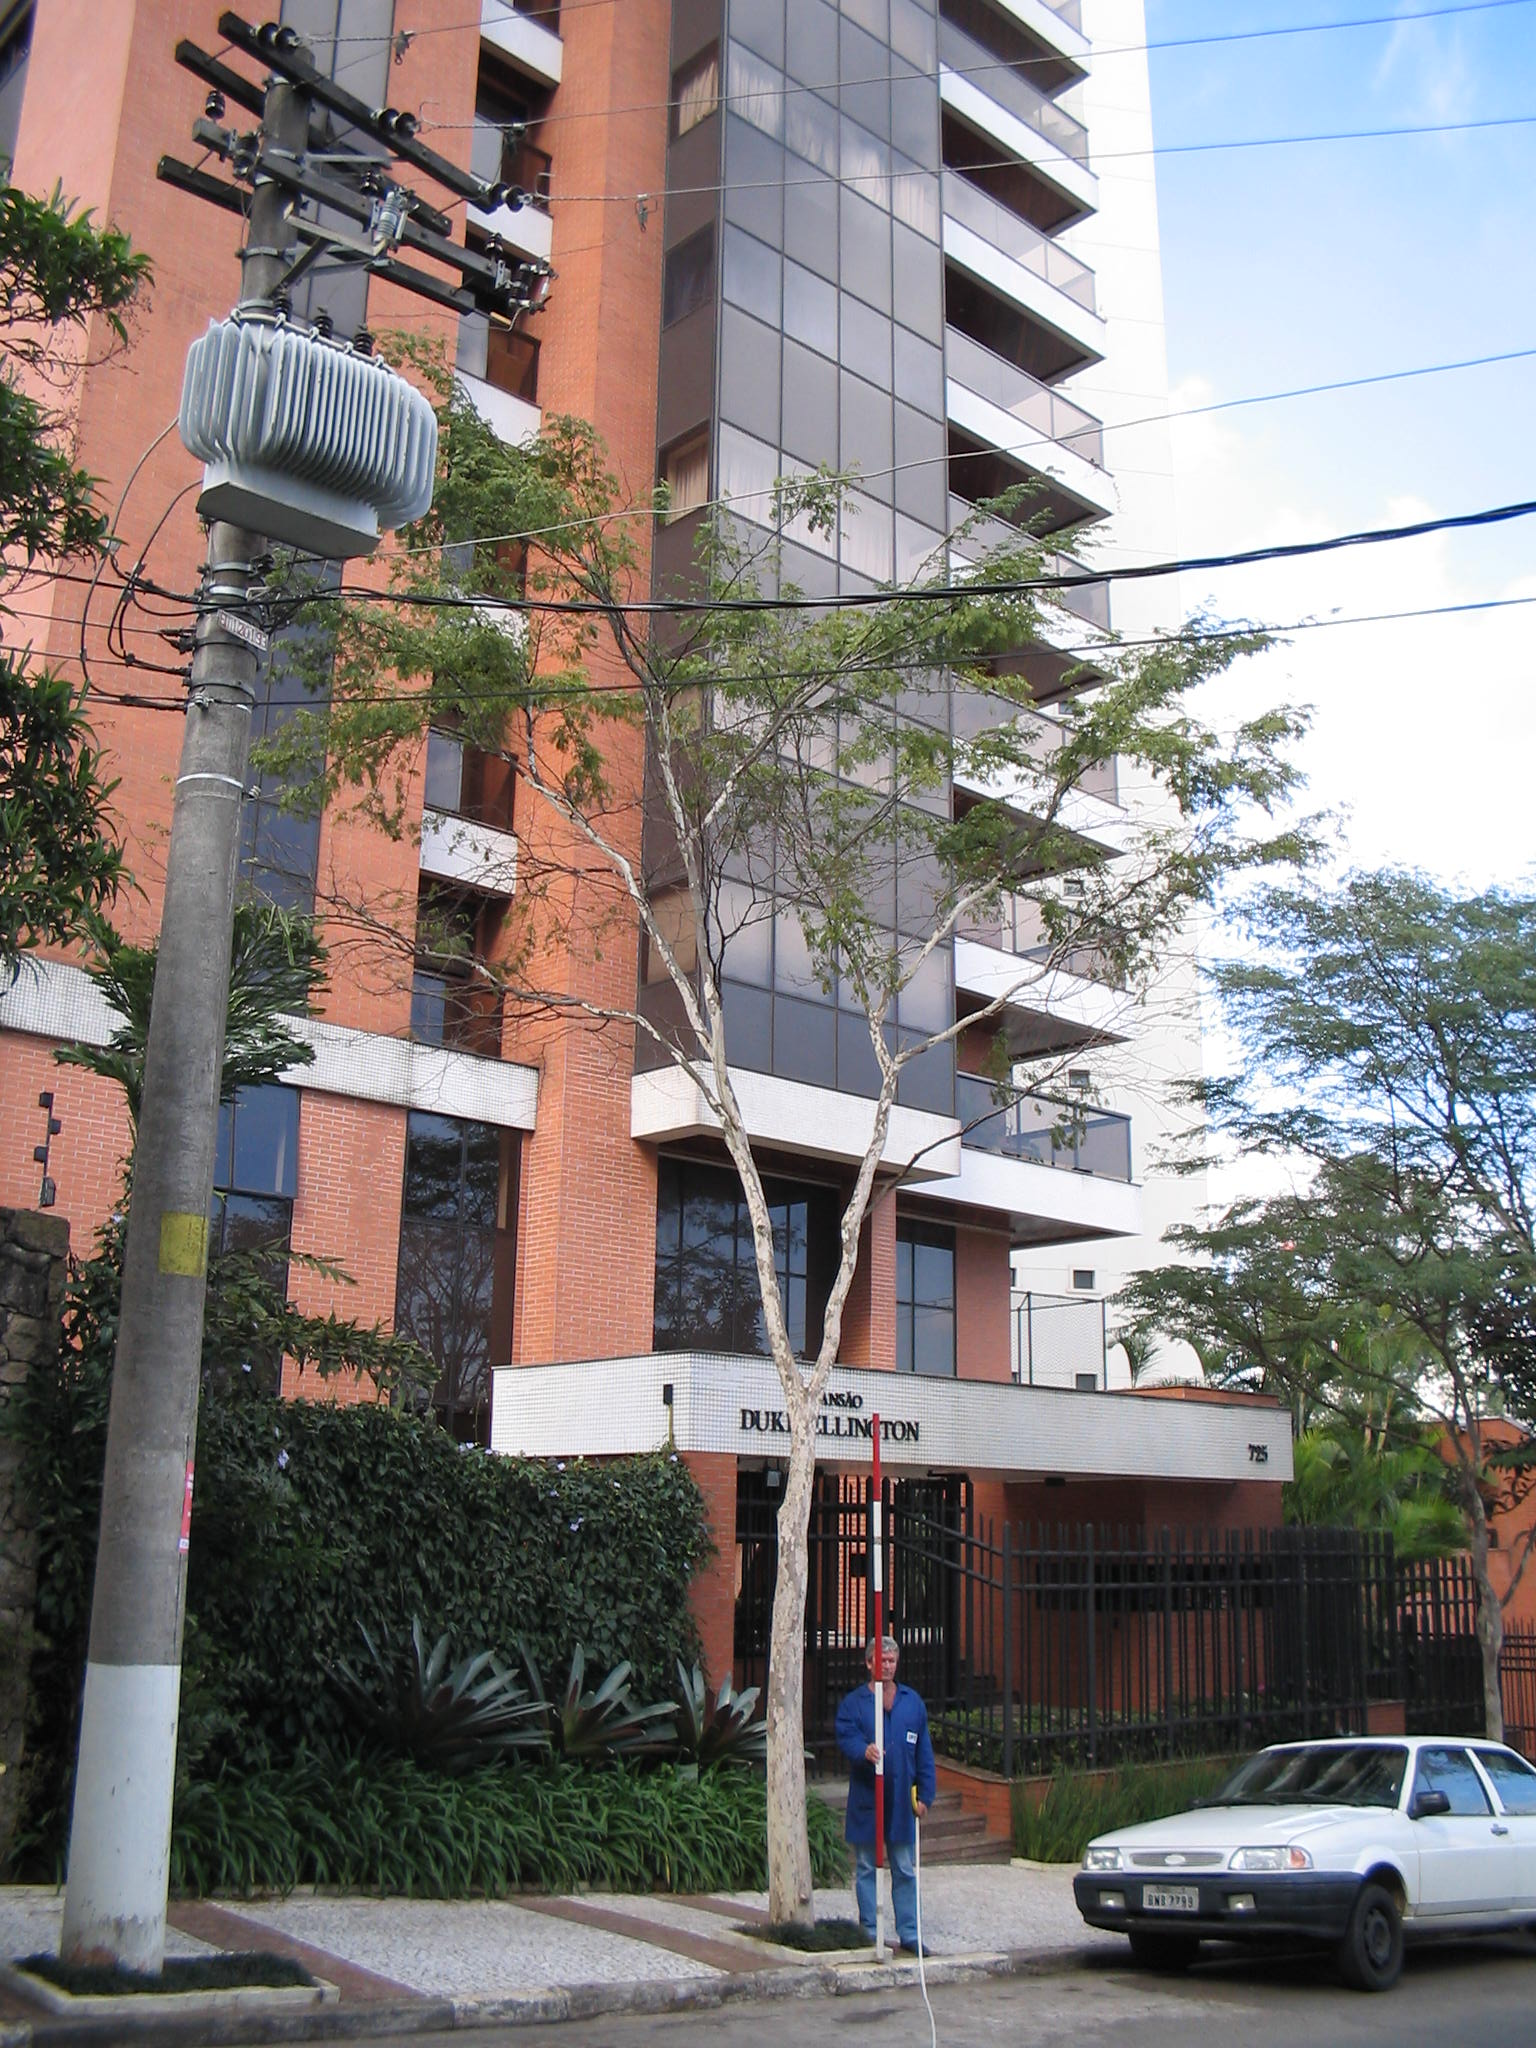crown: (278, 337, 1346, 1182)
stem: (736, 1379, 862, 1945), (1431, 1611, 1525, 1737)
stick: (845, 1413, 910, 1967)
tree: (266, 340, 1349, 1946), (1117, 1171, 1536, 1746)
